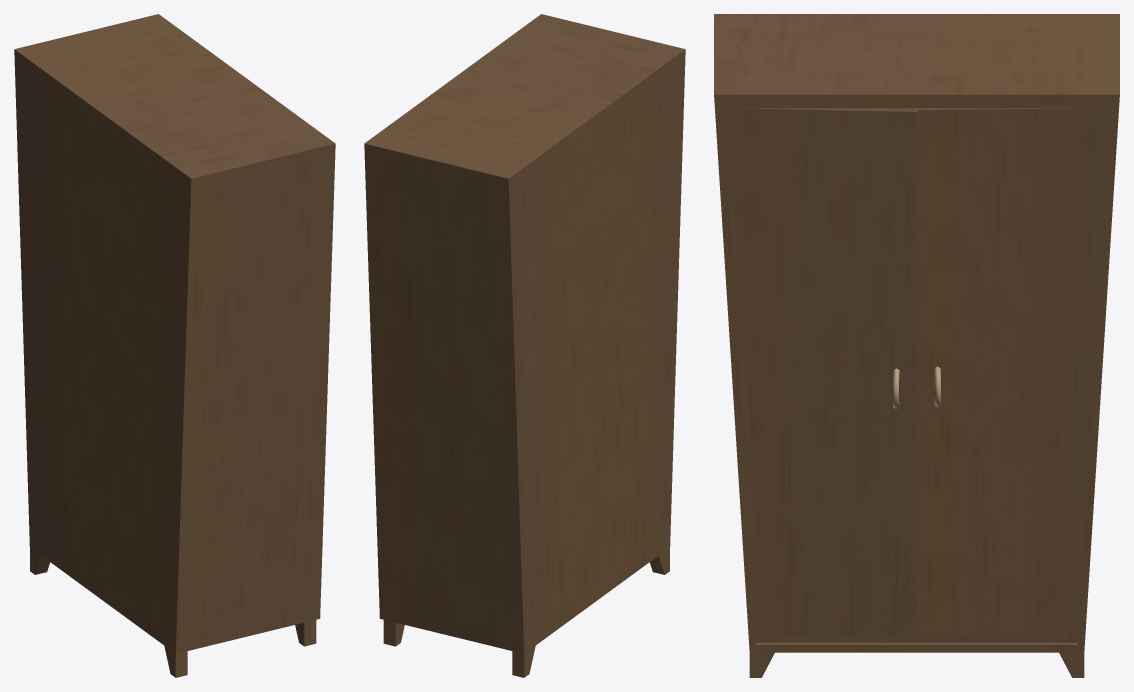
The model's file is commode.fbx.
3 renders of one model, left to right at view 1: azimuth 30°, elevation 25°; view 2: azimuth 150°, elevation 25°; view 3: azimuth 270°, elevation 25°, orthographic. The views are drawn at different scales.
Parts seen in each view (by area): view 1: Commode; view 2: Commode; view 3: Commode.
Boxes of the visible parts, left/top/right/bottom form: Commode: left=14, top=14, right=335, bottom=677; Commode: left=364, top=14, right=685, bottom=677; Commode: left=714, top=14, right=1119, bottom=677.
Size of the model in its own units: 234 by 706 by 444.
